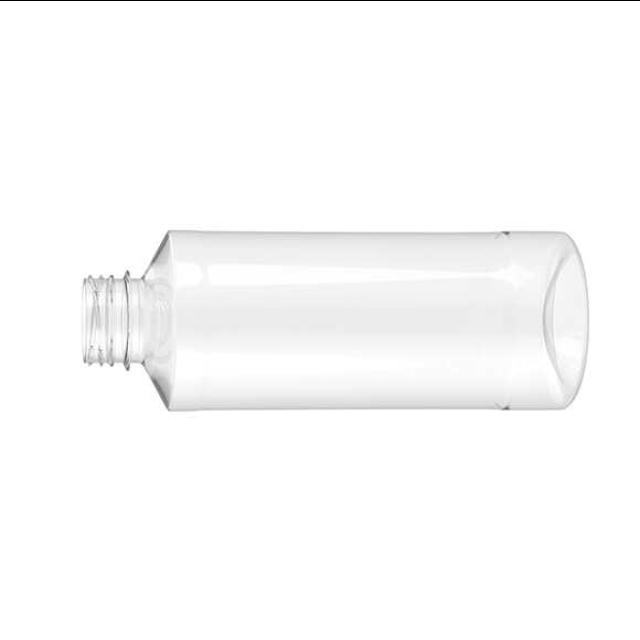bottom: (503, 201, 599, 437)
no_cap: (65, 248, 161, 381)
